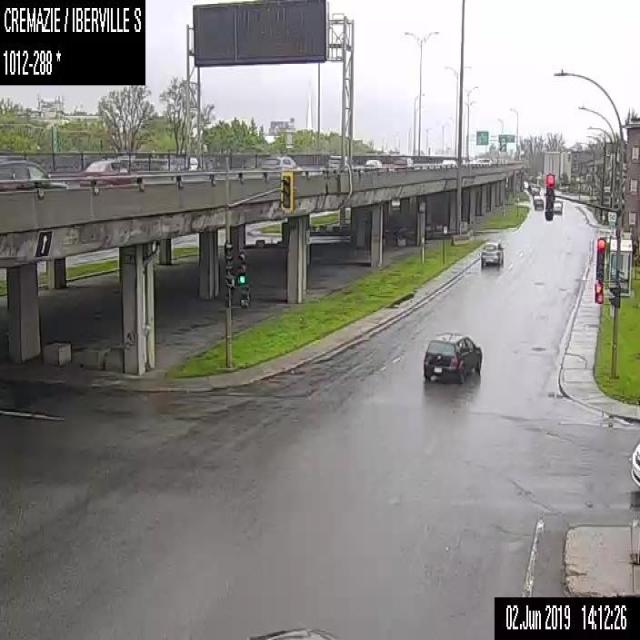vehicle: (420, 327, 482, 382), (0, 158, 68, 190), (79, 157, 137, 187), (260, 154, 304, 170), (478, 239, 504, 265), (626, 440, 639, 489), (160, 155, 197, 170), (325, 153, 351, 170), (239, 156, 263, 169), (363, 158, 388, 170), (392, 156, 414, 168), (441, 157, 458, 168), (552, 200, 563, 213), (534, 197, 543, 210), (532, 192, 542, 203), (527, 182, 540, 190), (531, 186, 539, 194)
